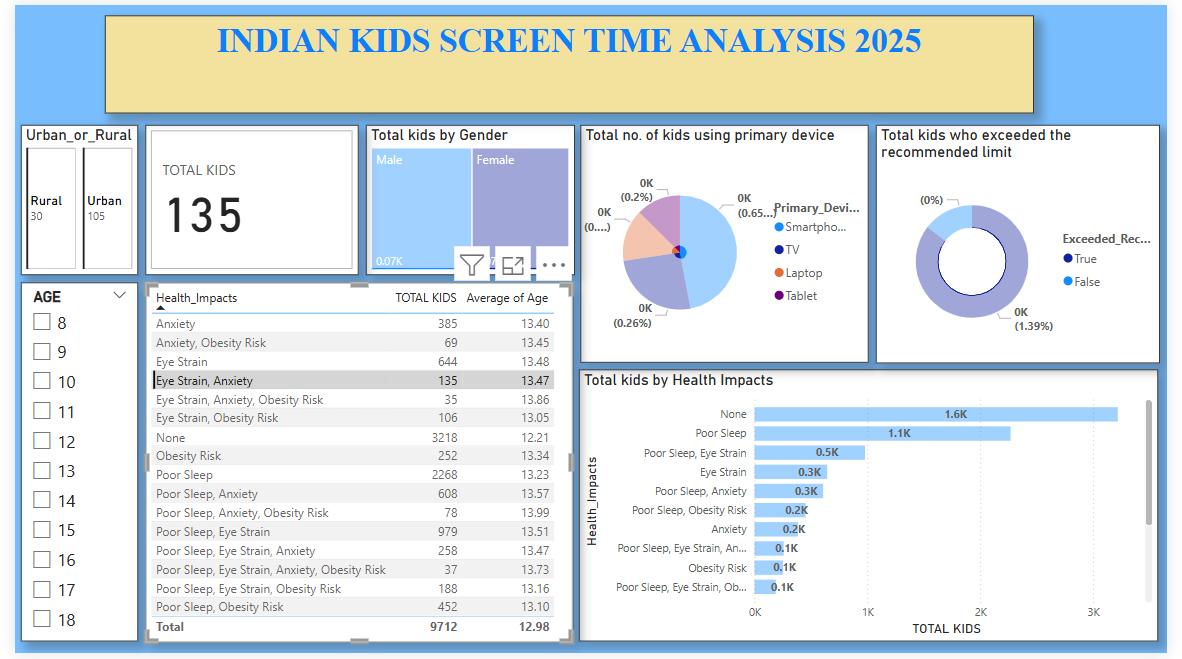

The page's visual inventory and layout, read from the dashboard file:
{"tool":"powerbi","page":{"name":"Page 1","canvas":[1280,720],"ordinal":0},"visuals":[{"type":"clusteredBarChart","title":"Total kids by Health Impacts","fields":{"Category":["Indian_Kids_Screen_Time.Health_Impacts"],"Y":["Indian_Kids_Screen_Time.TOTAL KIDS"]},"box":[627,405,643,302],"z":0},{"type":"pieChart","title":"Total no. of kids using primary device","fields":{"Category":["Indian_Kids_Screen_Time.Primary_Device"],"Y":["Indian_Kids_Screen_Time.TOTAL KIDS"]},"box":[628,134,320,264],"z":1000},{"type":"donutChart","title":"Total kids who exceeded the recommended limit ","fields":{"Category":["Indian_Kids_Screen_Time.Exceeded_Recommended_Limit"],"Y":["Indian_Kids_Screen_Time.TOTAL KIDS"]},"box":[956.4,133.6,315.5,264.5],"z":2000},{"type":"tableEx","fields":{"Values":["Indian_Kids_Screen_Time.Health_Impacts","Indian_Kids_Screen_Time.TOTAL KIDS","Avg(Indian_Kids_Screen_Time.Age)"]},"box":[145,308.3,475,400],"z":3000},{"type":"treemap","title":"Total kids by Gender","fields":{"Group":["Indian_Kids_Screen_Time.Gender"],"Values":["Indian_Kids_Screen_Time.TOTAL KIDS"]},"box":[390,133.3,231.7,166.7],"z":4000},{"type":"advancedSlicerVisual","fields":{"Values":["Indian_Kids_Screen_Time.Urban_or_Rural"]},"box":[6.7,133.3,130,166.7],"z":5000},{"type":"slicer","title":"AGE","fields":{"Values":["Indian_Kids_Screen_Time.Age"]},"box":[6.7,308.3,130,398.3],"z":6000},{"type":"cardVisual","fields":{"Data":["Indian_Kids_Screen_Time.TOTAL KIDS"]},"box":[145,133.3,236.7,166.7],"z":7000},{"type":"textbox","box":[100,11.7,1031.7,108.3],"z":8000}]}

Visuals, with their boxes in screenshot pixels (x1, y1, x2, y2), scaled from the page's 1280x720 canvas onto the 1182x659 screenshot:
"Total kids by Health Impacts" clusteredBarChart: 579/371/1173/647
"Total no. of kids using primary device" pieChart: 580/123/875/364
"Total kids who exceeded the recommended limit " donutChart: 883/122/1175/364
tableEx - Indian_Kids_Screen_Time.Health_Impacts x Indian_Kids_Screen_Time.TOTAL KIDS: 134/282/573/648
"Total kids by Gender" treemap: 360/122/574/275
advancedSlicerVisual - Indian_Kids_Screen_Time.Urban_or_Rural: 6/122/126/275
"AGE" slicer: 6/282/126/647
cardVisual - Indian_Kids_Screen_Time.TOTAL KIDS: 134/122/352/275
textbox: 92/11/1045/110
